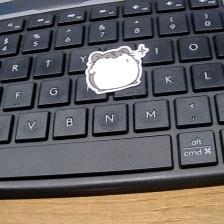mouse: (82, 42, 158, 97)
